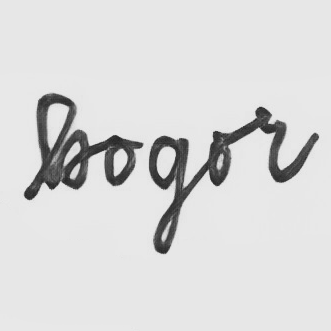b: (33, 91, 92, 192)
g: (146, 134, 191, 256)
o: (101, 133, 138, 189), (206, 128, 234, 188)
r: (250, 103, 292, 187)
